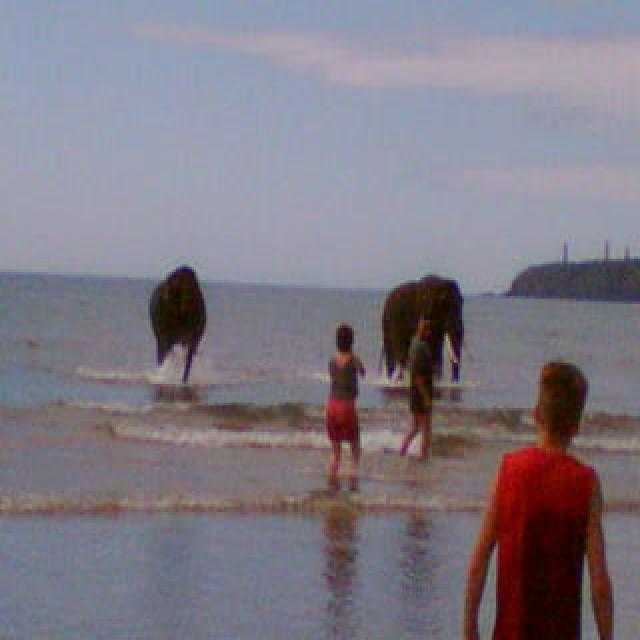Elephant: (378, 272, 464, 384)
person: (462, 360, 614, 637), (324, 323, 366, 472), (398, 314, 434, 458)
